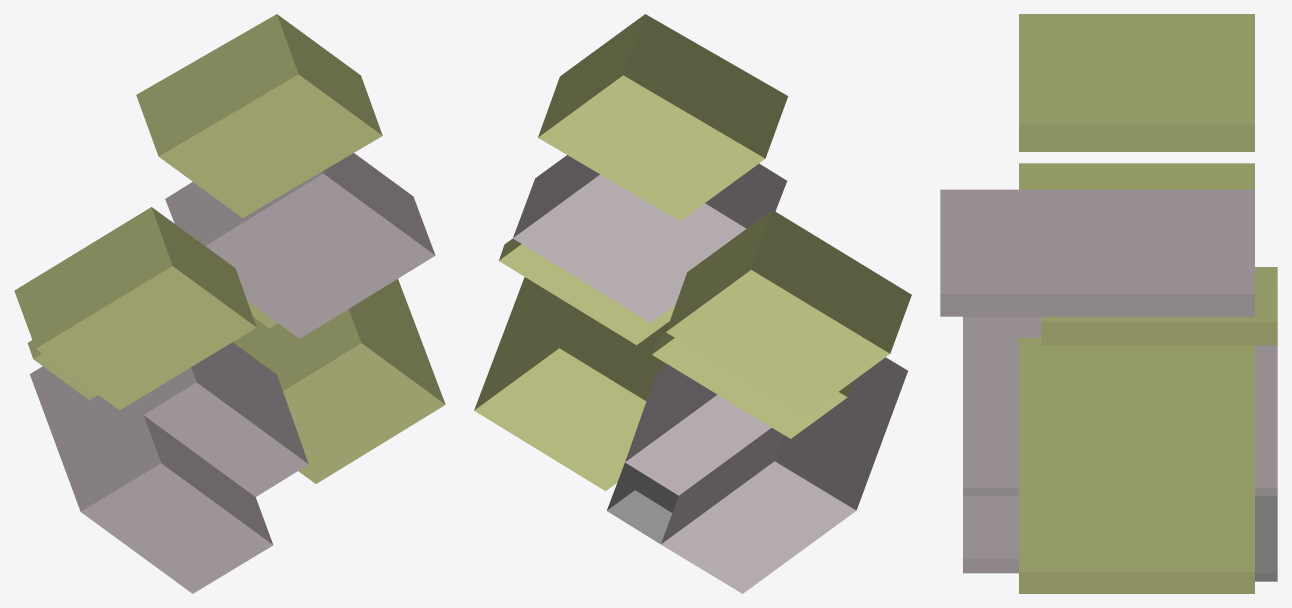
The picture shows the model from 3 angles, left to right: view 1: azimuth 30°, elevation 25°; view 2: azimuth 150°, elevation 25°; view 3: azimuth 270°, elevation 25°; orthographic projection. The views are drawn at different scales.
Visible parts, largest first — view 1: 0_1_3_2_2_2_2_0_3_1; view 2: 0_1_3_2_2_2_2_0_3_1; view 3: 0_1_3_2_2_2_2_0_3_1.
Boxes of the visible parts, <box> form: 0_1_3_2_2_2_2_0_3_1: <box>14,14,445,593</box>; 0_1_3_2_2_2_2_0_3_1: <box>474,14,911,593</box>; 0_1_3_2_2_2_2_0_3_1: <box>940,14,1277,593</box>.
Size of the model in its own units: 21.45 by 27.03 by 12.87.
